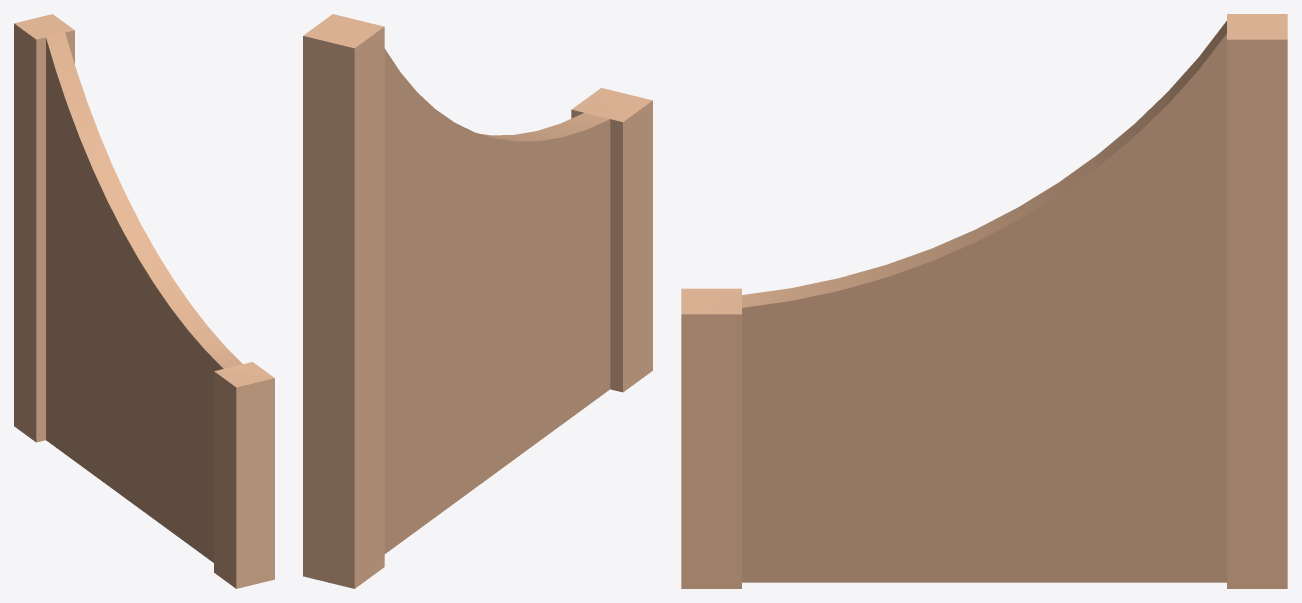
File: wallWoodSlope.glb
3 renders of one model, left to right at view 1: azimuth 30°, elevation 25°; view 2: azimuth 150°, elevation 25°; view 3: azimuth 270°, elevation 25°, orthographic. The views are drawn at different scales.
Parts seen in each view (by area): view 1: wallWoodSlope; view 2: wallWoodSlope; view 3: wallWoodSlope.
Boxes of the visible parts, box(x1,y1,x2,y2) form: wallWoodSlope: box(14, 14, 274, 588); wallWoodSlope: box(303, 14, 652, 588); wallWoodSlope: box(681, 14, 1287, 588).
Size of the model in its own units: 0.1 by 1 by 1.
